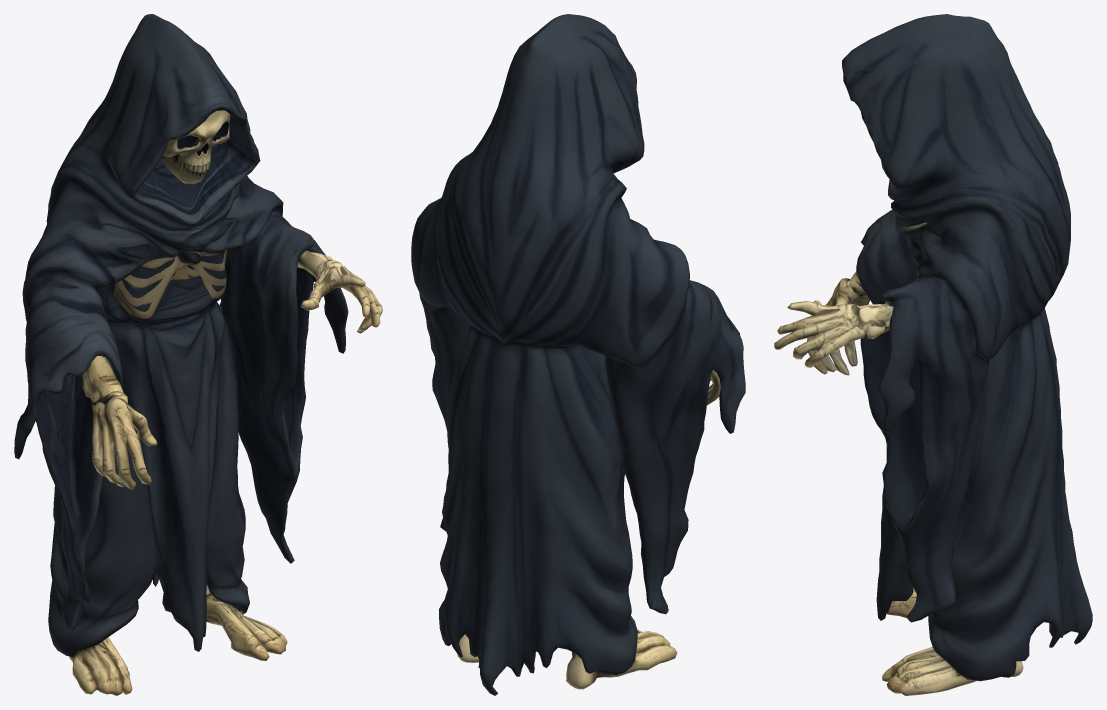
File: npc_reaper.glb
3 views of the same model, side by side, from view 1: azimuth 30°, elevation 25°; view 2: azimuth 150°, elevation 25°; view 3: azimuth 270°, elevation 25° (orthographic).
Size of the model in its own units: 0.998 by 1.91 by 0.865.
1 material, 1 textured.
